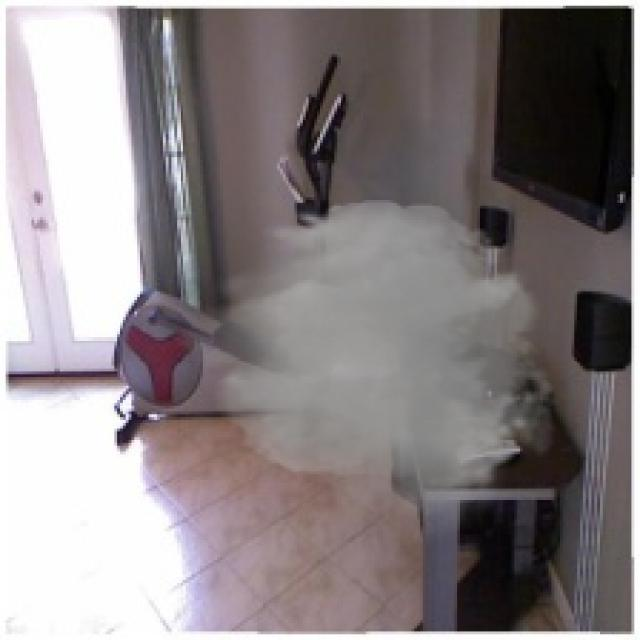Smoke: (168, 191, 572, 543)
